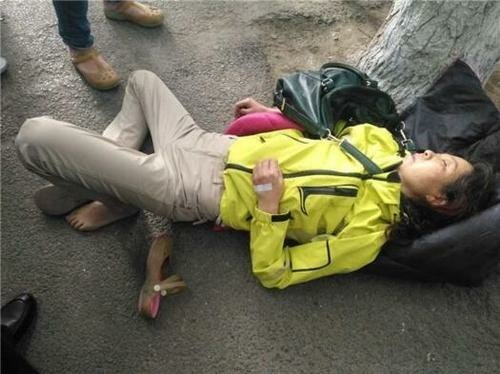falling: (9, 34, 498, 337)
